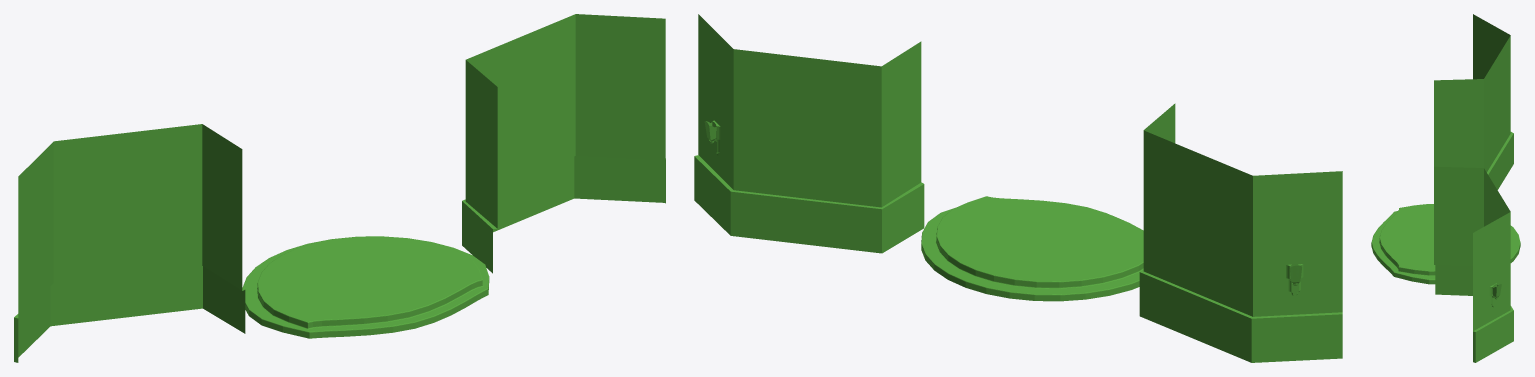
The model's file is Door_Without_Light_Update_Geo.fbx.
3 views of the same model, side by side, from view 1: azimuth 30°, elevation 25°; view 2: azimuth 150°, elevation 25°; view 3: azimuth 270°, elevation 25° (orthographic). The views are drawn at different scales.
Parts seen in each view (by area): view 1: NoghtClub_In_EX18:M_Door_D_geo; view 2: NoghtClub_In_EX18:M_Door_D_geo; view 3: NoghtClub_In_EX18:M_Door_D_geo.
Part boxes in pixels (x1=…): NoghtClub_In_EX18:M_Door_D_geo: x1=14, y1=14, x2=665, y2=362; NoghtClub_In_EX18:M_Door_D_geo: x1=694, y1=14, x2=1342, y2=362; NoghtClub_In_EX18:M_Door_D_geo: x1=1371, y1=14, x2=1520, y2=362.
Bounding box in the file's own units: 2179 × 595 × 622.
